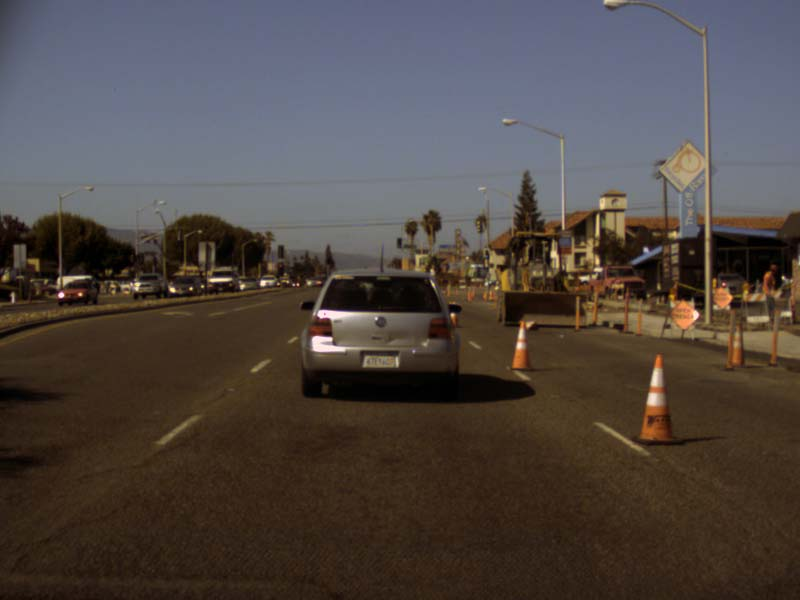Green: (396, 238, 401, 248)
Red: (277, 262, 283, 274)
